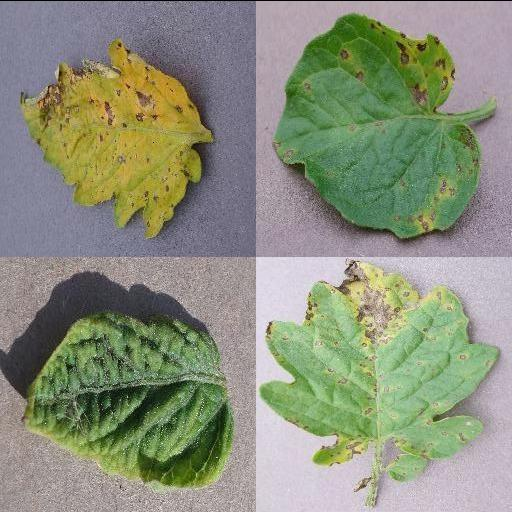Septoria: (260, 259, 499, 483), (271, 12, 479, 240), (19, 35, 211, 237)
Yellow Leaf Curl Virus: (19, 308, 233, 488)
